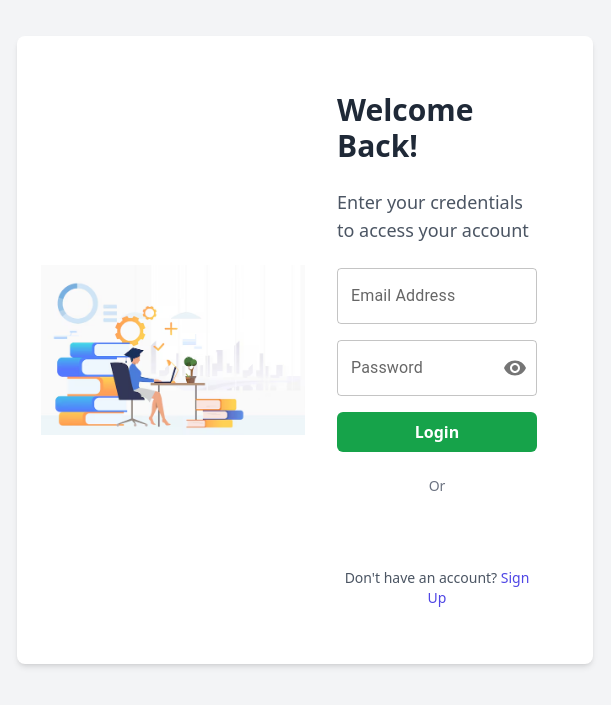
Test: LoginForm Component › Form Submission › shows loading state during submission
Type "test@example.com" into the field labelled "Email Address".
click(437, 296); type("test@example.com")  # box [337,268,537,324]
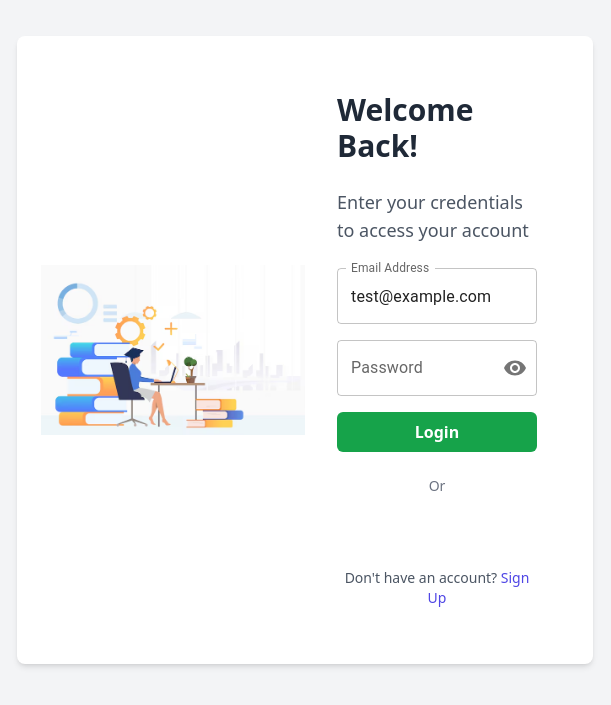
Type "password123" into the password field labelled "Password".
click(412, 368); type("password123")  # box [337,340,487,396]
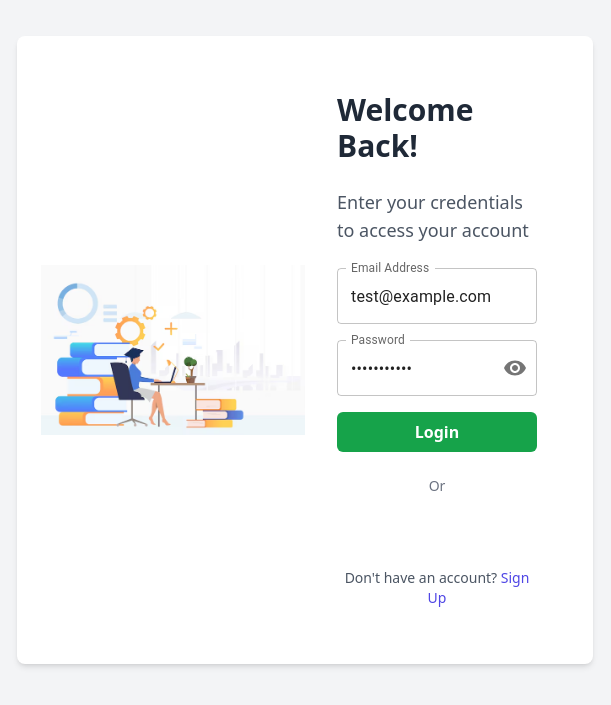
Click the button "Login".
click(437, 432)  # box [337,412,537,452]
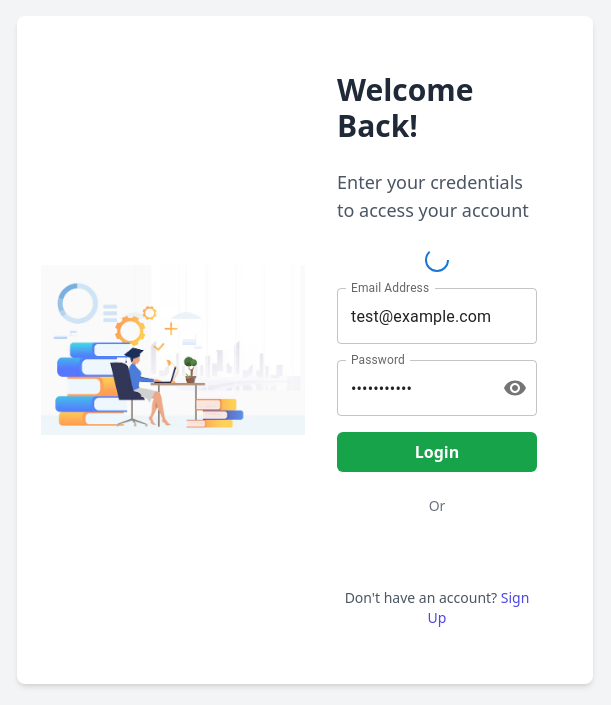
Expected: the progress indicator is shown, [425,248,449,272]
